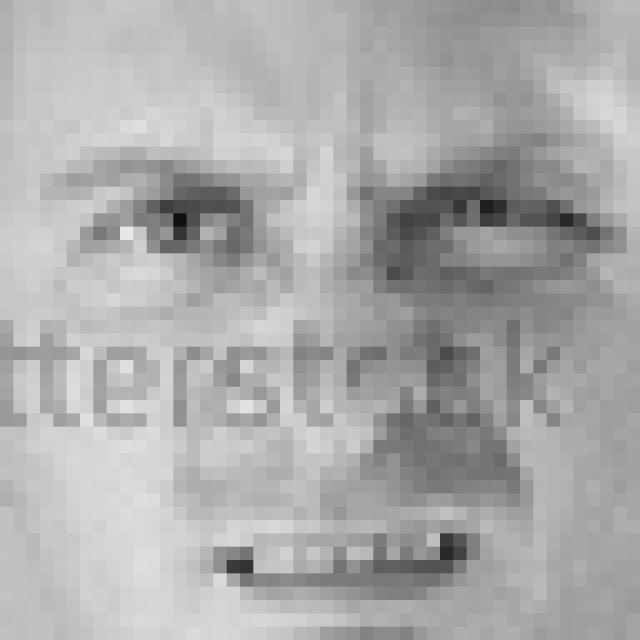disgust: (33, 118, 613, 629)
